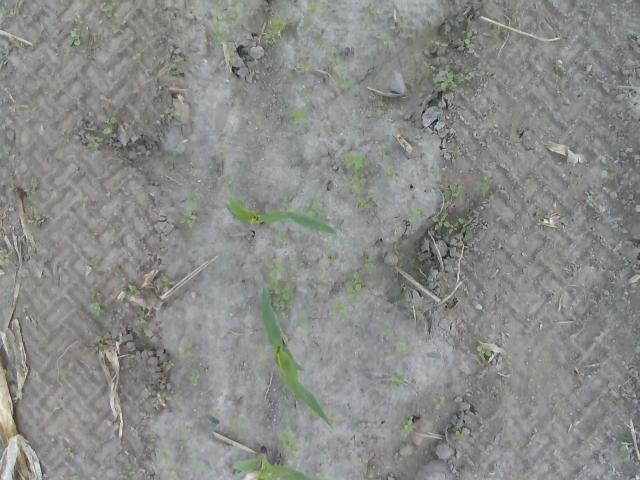Maize: (256, 284, 336, 430), (220, 174, 338, 238), (229, 442, 318, 480)
Weeds: (264, 276, 296, 320), (274, 426, 304, 460), (345, 272, 371, 302), (263, 16, 287, 44), (343, 172, 368, 194), (343, 153, 371, 172), (448, 216, 474, 236), (432, 70, 458, 89), (153, 447, 175, 468), (90, 332, 110, 354), (476, 174, 494, 198), (387, 372, 408, 392), (332, 299, 352, 320), (442, 183, 467, 199), (304, 200, 326, 218), (266, 258, 288, 276), (430, 211, 450, 230), (290, 106, 310, 125), (227, 5, 244, 27), (334, 71, 356, 88), (67, 29, 88, 46), (156, 275, 175, 293), (304, 0, 324, 17), (256, 344, 268, 372), (210, 24, 228, 42), (102, 115, 118, 135), (396, 338, 412, 357), (328, 55, 348, 70), (88, 300, 105, 317), (84, 134, 102, 150), (400, 418, 416, 436), (136, 300, 148, 324), (274, 227, 290, 245), (188, 458, 206, 474), (378, 32, 396, 47), (601, 168, 620, 182), (406, 206, 426, 219), (178, 209, 194, 225), (477, 344, 492, 361), (451, 424, 466, 441), (280, 200, 298, 214), (26, 214, 44, 228), (0, 248, 13, 267), (24, 178, 39, 194), (356, 195, 371, 211), (308, 406, 328, 418), (179, 342, 194, 358), (297, 59, 312, 74), (326, 410, 341, 425), (222, 44, 236, 60), (384, 164, 398, 180), (312, 37, 329, 50), (459, 73, 481, 83), (122, 284, 140, 296), (227, 418, 245, 430), (100, 2, 114, 17), (156, 391, 172, 404), (60, 362, 74, 376), (464, 30, 478, 44), (370, 190, 384, 204), (184, 192, 198, 206), (364, 3, 376, 19), (210, 9, 226, 21), (389, 20, 408, 30), (432, 396, 446, 409), (296, 313, 310, 326), (162, 107, 180, 117), (15, 302, 30, 314), (482, 31, 502, 40), (321, 125, 337, 136), (316, 470, 333, 480), (301, 86, 314, 99), (188, 370, 200, 384), (422, 60, 438, 70), (181, 424, 191, 440), (216, 140, 228, 153), (162, 469, 176, 480), (446, 147, 463, 156), (365, 472, 384, 480), (432, 167, 442, 182), (381, 348, 393, 360), (90, 288, 102, 300), (382, 325, 393, 338), (163, 360, 176, 371), (64, 448, 77, 459), (106, 221, 116, 235), (433, 40, 450, 48), (614, 397, 626, 408), (124, 469, 136, 480), (2, 368, 15, 378), (364, 256, 374, 269), (12, 103, 30, 110), (161, 75, 179, 82), (173, 12, 183, 24), (620, 439, 630, 451), (326, 252, 338, 262), (277, 393, 289, 403), (354, 458, 368, 466), (208, 405, 218, 416), (89, 259, 100, 269), (586, 196, 595, 208), (282, 72, 294, 81), (0, 4, 7, 19), (174, 394, 184, 404), (444, 314, 453, 324), (14, 40, 25, 48), (518, 473, 530, 480), (111, 26, 121, 34), (378, 150, 388, 158), (64, 46, 72, 55), (74, 17, 84, 24), (366, 110, 376, 117), (8, 181, 15, 191), (132, 52, 140, 60), (164, 0, 173, 7), (550, 72, 560, 78), (70, 474, 80, 480), (3, 146, 10, 154), (32, 38, 41, 44), (494, 0, 500, 3)
